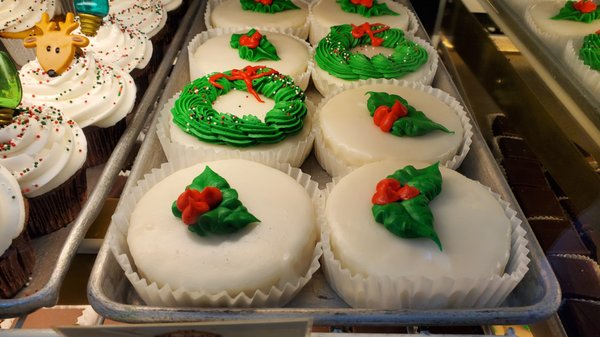sushi: (120, 160, 320, 308), (317, 160, 512, 310), (156, 64, 318, 178), (313, 86, 470, 179), (0, 104, 89, 237), (17, 31, 136, 129), (171, 65, 307, 143), (310, 22, 437, 97), (186, 26, 311, 91), (0, 163, 37, 299), (205, 0, 310, 40)
